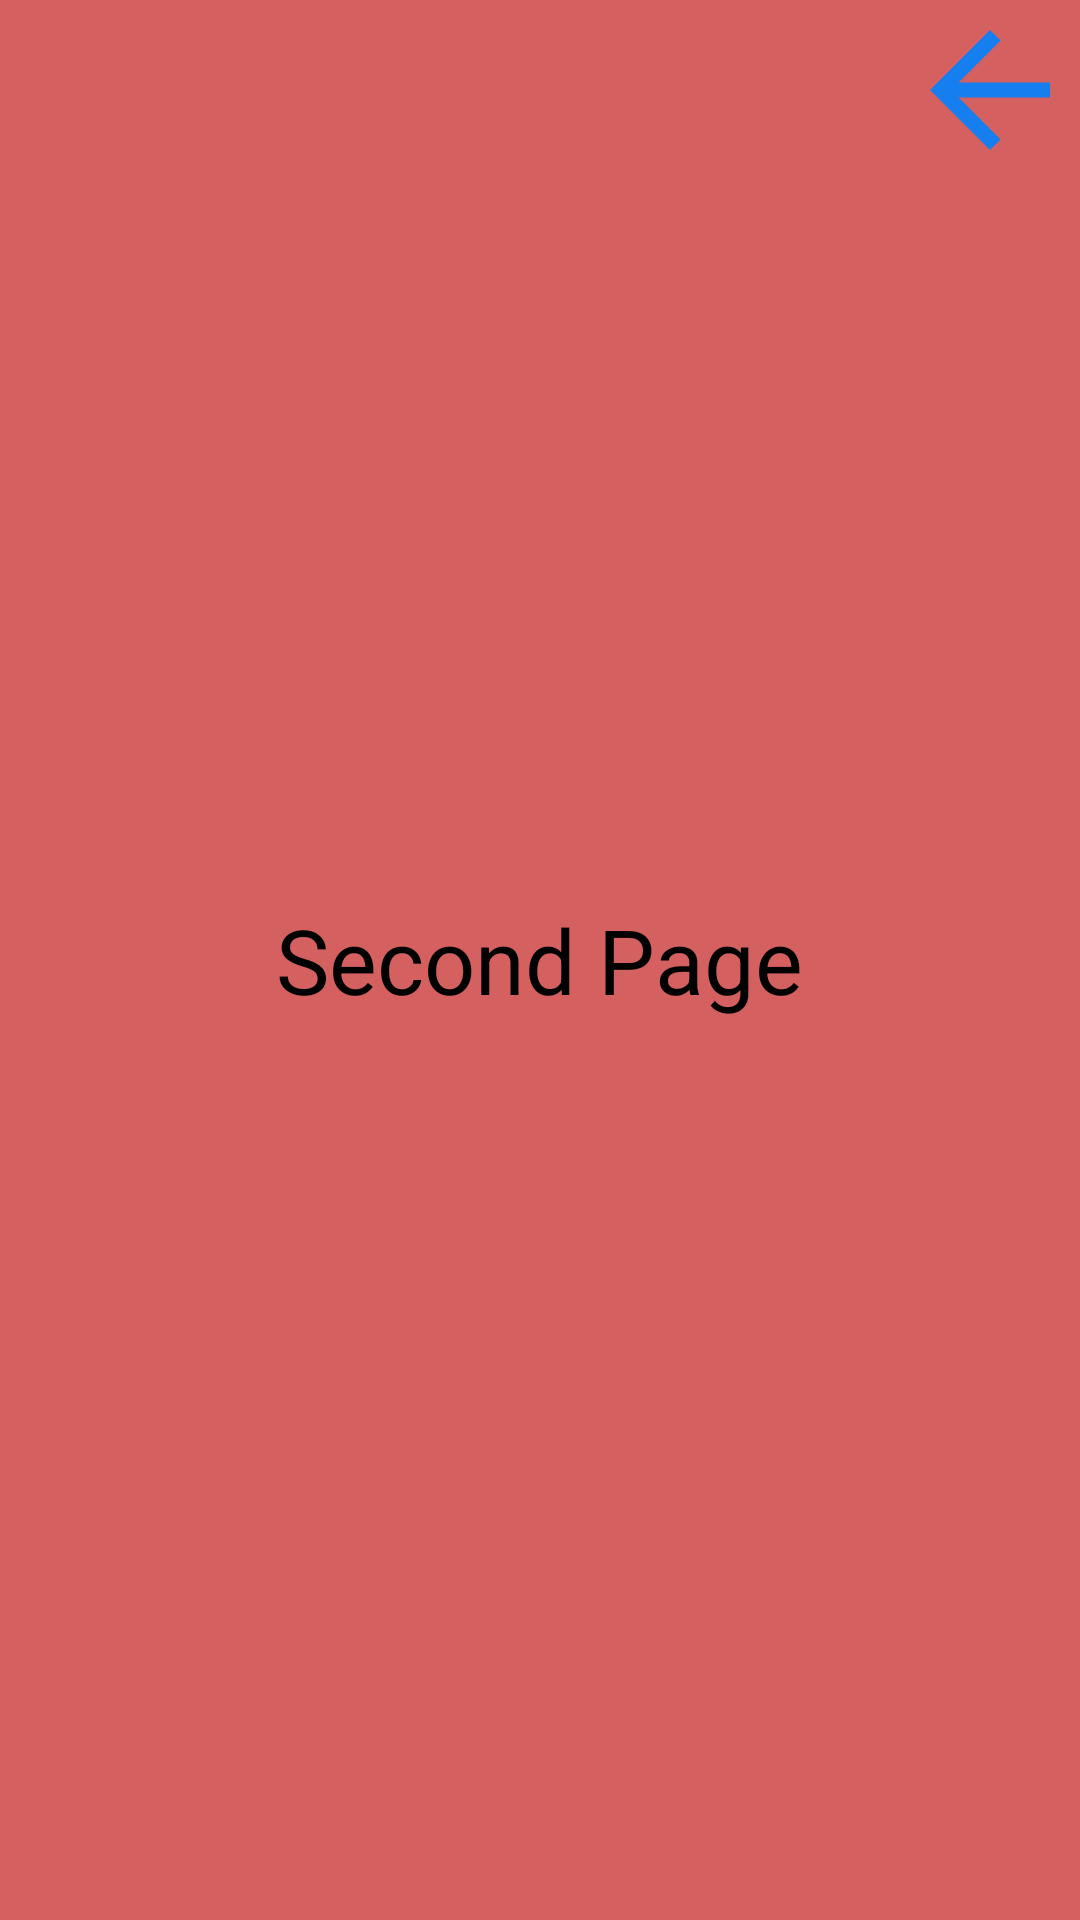

Screen size 1080px×1920px. Icon name, then its box in pixels as (x1, y1, x2, y2):
back: (930, 30, 1050, 150)
